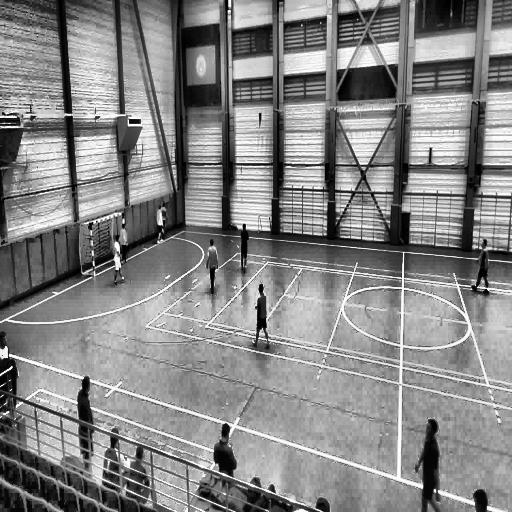player: (414, 420, 439, 511), (76, 376, 94, 474), (252, 282, 270, 348), (472, 239, 490, 293), (206, 238, 218, 295), (113, 234, 125, 284), (119, 221, 130, 264), (240, 224, 249, 272), (156, 204, 165, 245)
